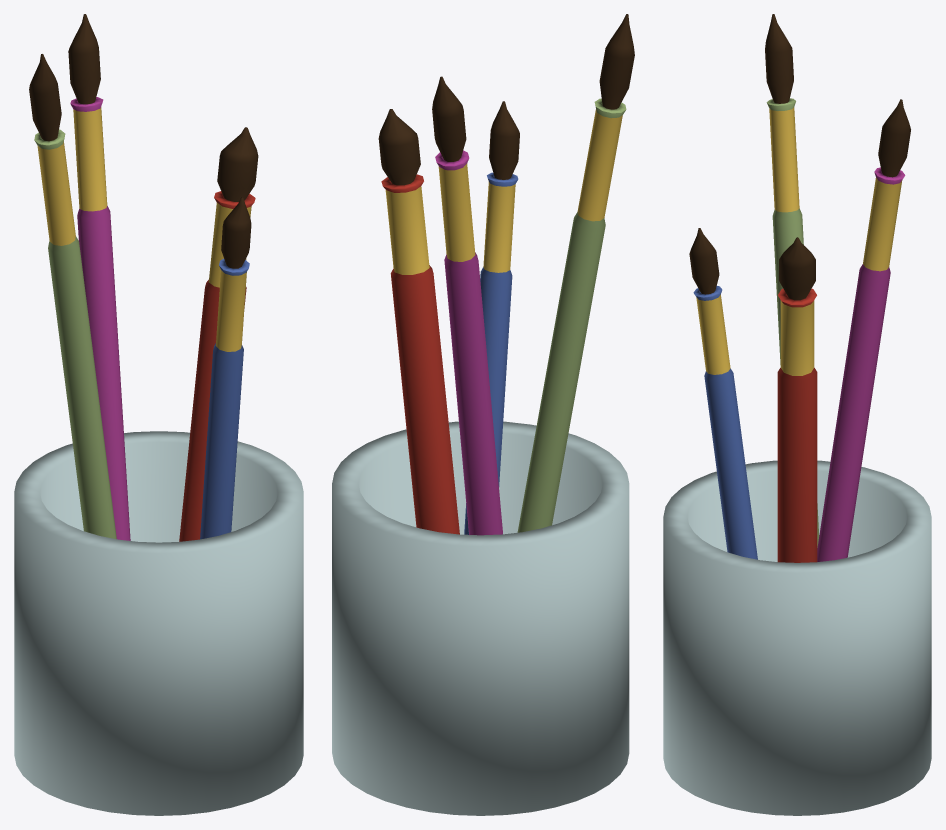
File: pinceles.fbx
3 renders of one model, left to right at view 1: azimuth 30°, elevation 25°; view 2: azimuth 150°, elevation 25°; view 3: azimuth 270°, elevation 25°, orthographic. The views are drawn at different scales.
Visible parts, largest first — view 1: Cylinder, Cylinder.003, Cylinder.002, Cylinder.004, Cylinder.001; view 2: Cylinder, Cylinder.001, Cylinder.003, Cylinder.002, Cylinder.004; view 3: Cylinder, Cylinder.002, Cylinder.001, Cylinder.004, Cylinder.003.
Boxes of the visible parts, <box> form: Cylinder: <box>14,431,303,815</box>; Cylinder.003: <box>29,54,116,539</box>; Cylinder.002: <box>68,14,130,540</box>; Cylinder.004: <box>200,197,251,539</box>; Cylinder.001: <box>179,127,258,541</box>; Cylinder: <box>332,421,629,815</box>; Cylinder.001: <box>378,109,459,534</box>; Cylinder.003: <box>517,14,634,532</box>; Cylinder.002: <box>432,76,502,535</box>; Cylinder.004: <box>464,101,519,534</box>; Cylinder: <box>663,460,931,815</box>; Cylinder.002: <box>817,99,910,561</box>; Cylinder.001: <box>777,237,817,562</box>; Cylinder.004: <box>689,228,757,559</box>; Cylinder.003: <box>765,14,819,547</box>.
Size of the model in its own units: 461 by 1241 by 439.
